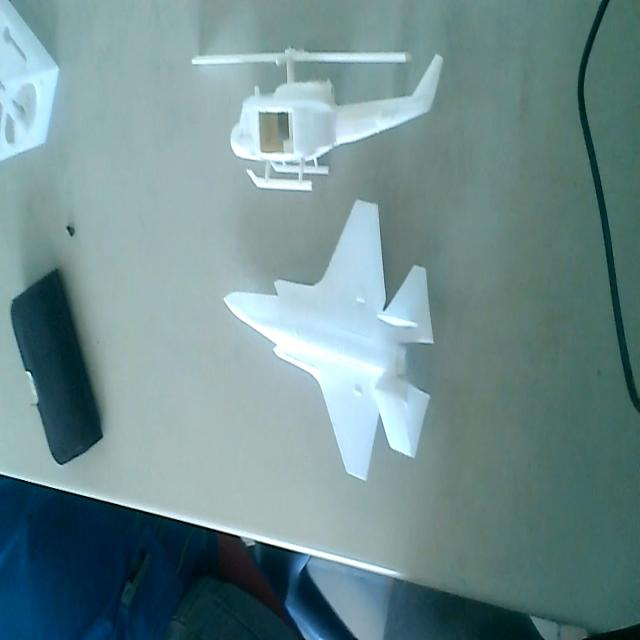Helicopter: (193, 42, 445, 193)
Jet: (227, 198, 434, 484)
